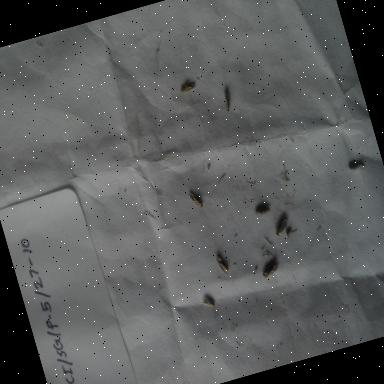pbw: (258, 258, 282, 282), (272, 215, 293, 238), (214, 252, 232, 278), (187, 188, 206, 212), (346, 156, 368, 174), (178, 78, 198, 97), (200, 292, 219, 312), (220, 89, 234, 113), (254, 203, 274, 218)
